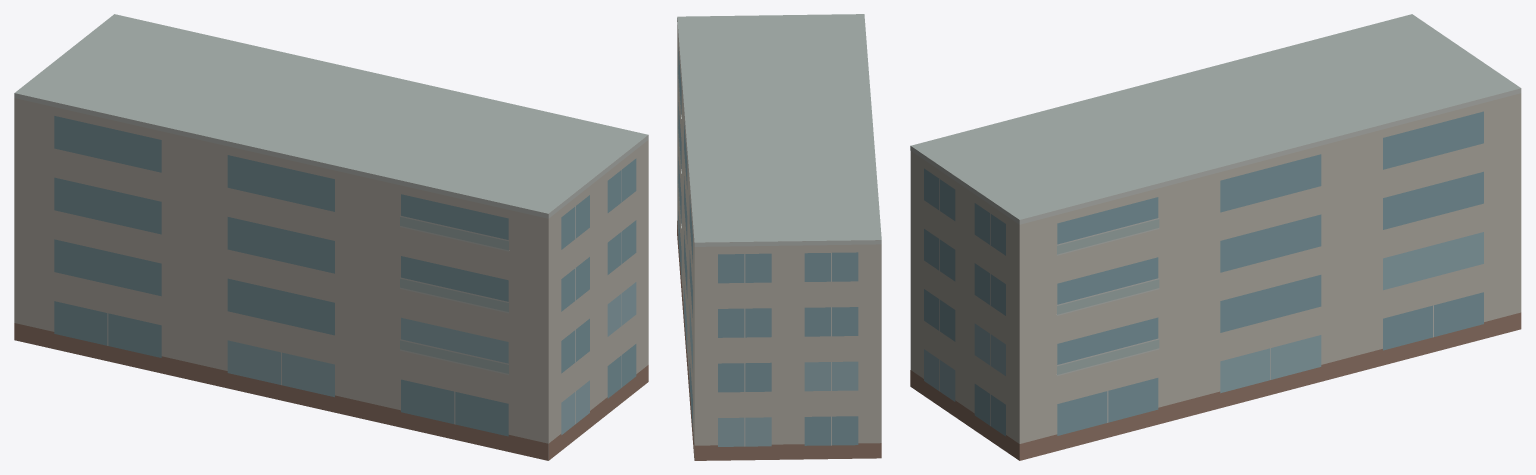
The model's file is residential-1f447efd-afaa-4686-afc7-3d2426620ee7.glb.
3 renders of one model, left to right at view 1: azimuth 30°, elevation 25°; view 2: azimuth 150°, elevation 25°; view 3: azimuth 270°, elevation 25°, orthographic. The views are drawn at different scales.
Visible parts, largest first — view 1: residential-1f447efd-afaa-4686-afc7-3d2426620ee7.tmp; view 2: residential-1f447efd-afaa-4686-afc7-3d2426620ee7.tmp; view 3: residential-1f447efd-afaa-4686-afc7-3d2426620ee7.tmp.
Boxes of the visible parts, left/top/right/bottom form: residential-1f447efd-afaa-4686-afc7-3d2426620ee7.tmp: left=14, top=14, right=648, bottom=460; residential-1f447efd-afaa-4686-afc7-3d2426620ee7.tmp: left=677, top=14, right=881, bottom=460; residential-1f447efd-afaa-4686-afc7-3d2426620ee7.tmp: left=910, top=14, right=1521, bottom=460.
Bounding box in the file's own units: 22.37 × 12.2 × 28.04.
